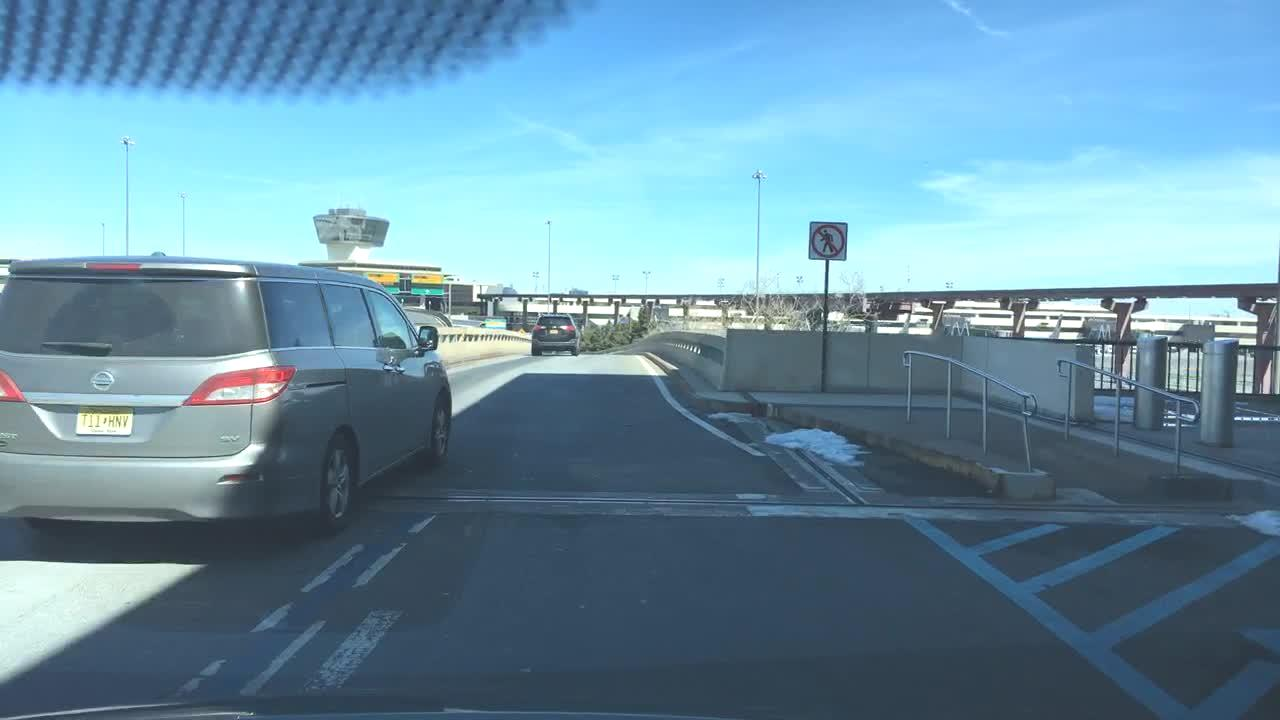Nissan: (86, 363, 127, 397)
